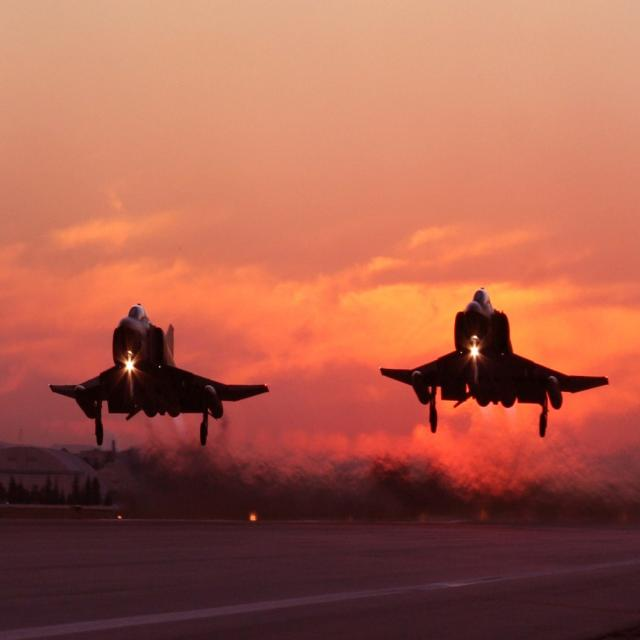MIL_Plane: (378, 287, 611, 438), (48, 302, 271, 446)
